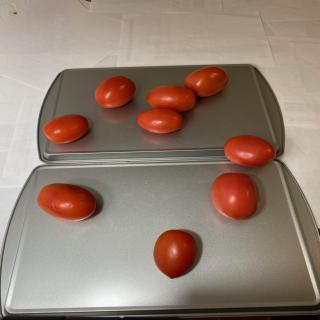Tomato: (210, 172, 260, 220), (36, 183, 96, 222), (153, 229, 198, 279), (224, 135, 276, 167), (184, 66, 229, 97), (94, 75, 136, 108), (43, 114, 89, 144), (146, 85, 196, 112), (136, 108, 183, 134)
